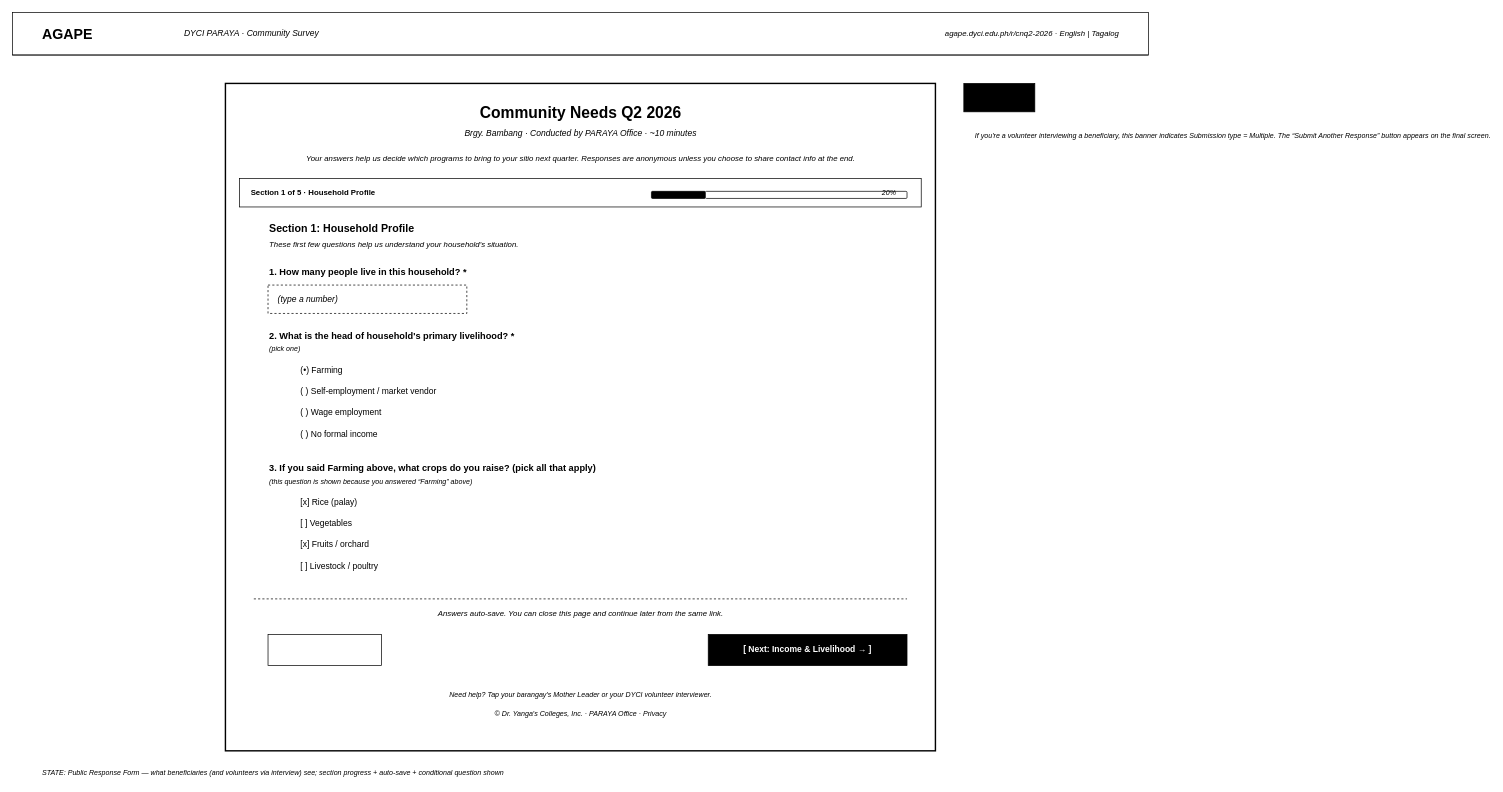
The diagram is 1503 pixels wide and 792 high, and some of its shapes have lost their labels. The shapes that lost their labels are listed below. From the top down, each one's centre as x and y in pixels, then its label:
At point (999, 97): "VOLUNTEER".
At point (324, 650): "[ ← Back to top ]".
